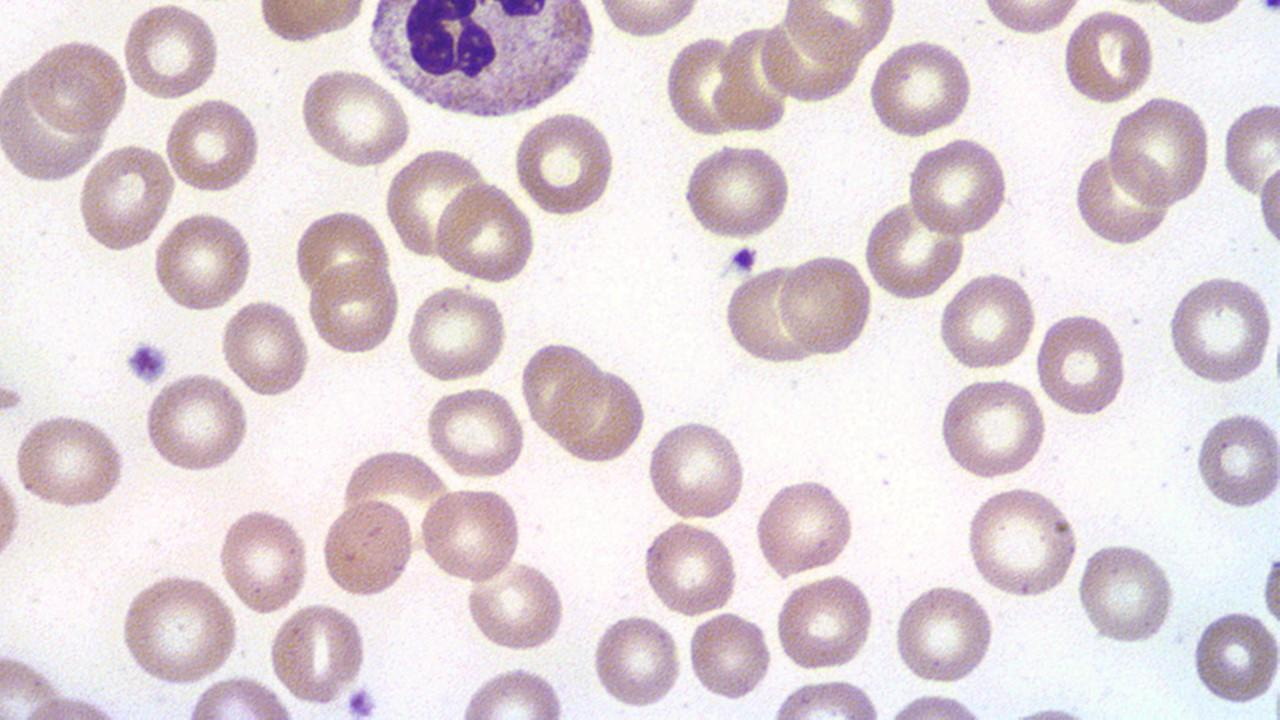Platelets: (122, 337, 172, 386), (726, 242, 759, 276), (1255, 0, 1280, 19)
RBC: (117, 570, 240, 686), (962, 484, 1082, 600), (1165, 271, 1277, 387), (936, 375, 1050, 481), (296, 67, 414, 169), (1108, 94, 1212, 208), (680, 138, 794, 242), (512, 107, 618, 218), (13, 410, 128, 512), (864, 37, 978, 139), (142, 370, 251, 476), (384, 144, 483, 260), (151, 207, 255, 316), (75, 142, 175, 254), (906, 134, 1012, 239), (891, 582, 998, 686), (646, 417, 750, 524), (433, 178, 536, 286), (22, 35, 129, 138), (1075, 538, 1177, 646), (546, 362, 650, 467), (861, 199, 968, 301), (268, 600, 370, 707), (402, 282, 509, 384), (752, 475, 856, 578), (936, 270, 1041, 372), (777, 252, 876, 360), (417, 486, 526, 584), (1033, 310, 1131, 418), (215, 504, 310, 615), (771, 573, 878, 671), (318, 494, 416, 601), (638, 520, 742, 618), (462, 558, 568, 654), (121, 1, 222, 101), (160, 97, 263, 194), (1058, 7, 1158, 106), (422, 385, 528, 478), (290, 206, 392, 302), (720, 262, 814, 366), (1072, 151, 1172, 248), (218, 296, 311, 398), (1189, 605, 1279, 709), (1193, 406, 1280, 513), (590, 610, 683, 710), (306, 262, 402, 356), (664, 33, 746, 137), (518, 337, 604, 436), (686, 609, 773, 701), (782, 0, 898, 63), (1221, 95, 1279, 202), (458, 663, 570, 717), (254, 2, 368, 46), (768, 677, 887, 718), (593, 0, 703, 39), (0, 438, 25, 586), (976, 0, 1084, 34), (1139, 0, 1255, 28), (1255, 151, 1279, 262), (1257, 536, 1279, 650)
WBC: (362, 0, 599, 124)
